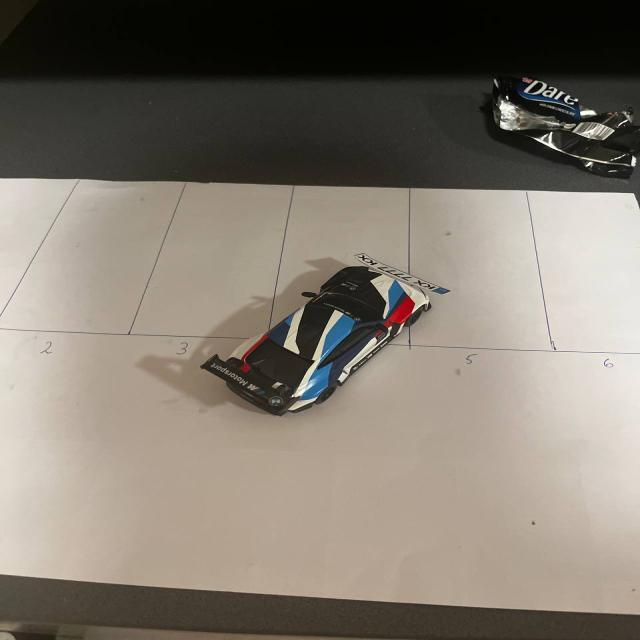KX 7777 KX: (356, 245, 460, 302)
